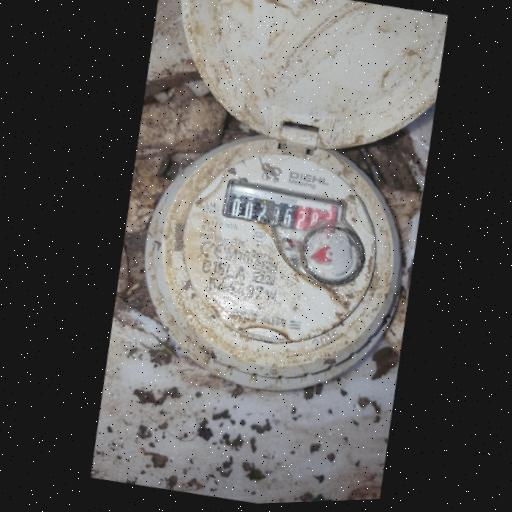0: (226, 193, 247, 219), (239, 195, 259, 222)
2: (293, 204, 313, 232), (253, 197, 272, 223)
5: (319, 203, 340, 227)
6: (279, 203, 299, 230)
8: (305, 208, 324, 235)
9: (266, 200, 286, 227)
border_water_meter_number: (219, 173, 351, 244)
